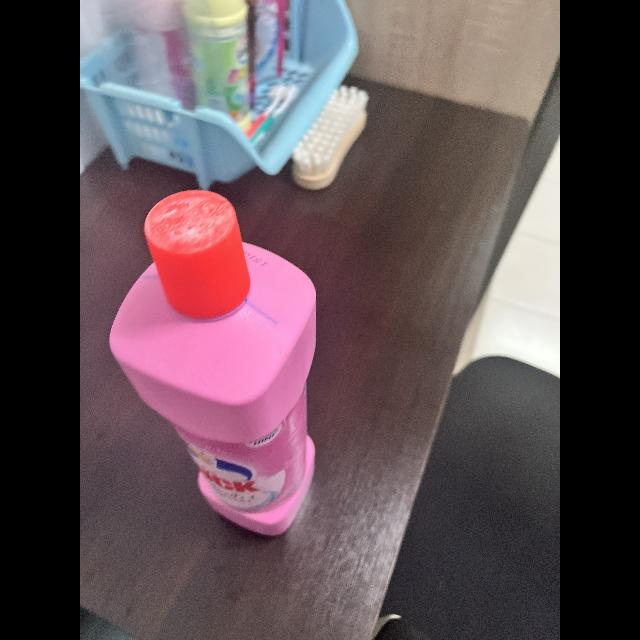chemical_plastic_bottle: (108, 190, 322, 542)
